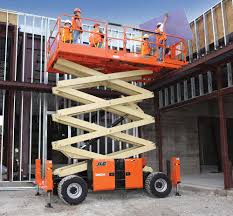Scissor Lift: (34, 15, 193, 210)
